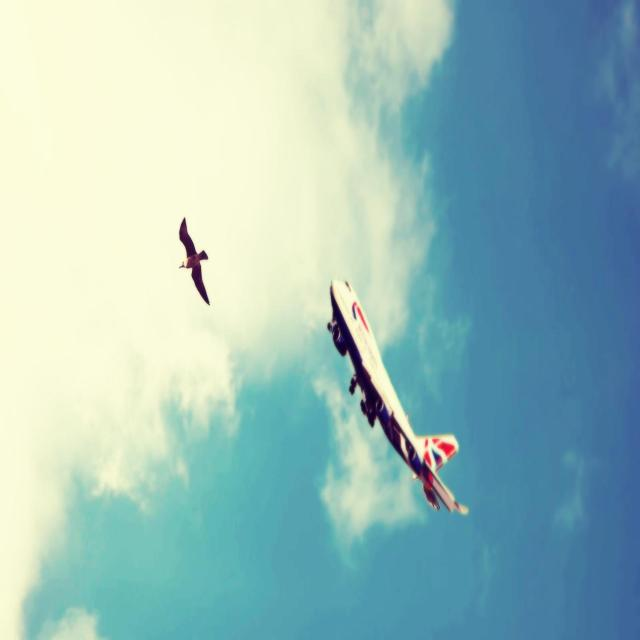airplane: (327, 277, 469, 515)
